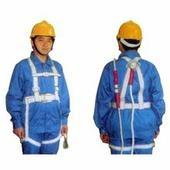helmet: (31, 18, 59, 40), (117, 21, 143, 42)
wear: (101, 62, 155, 146), (17, 62, 63, 142)
